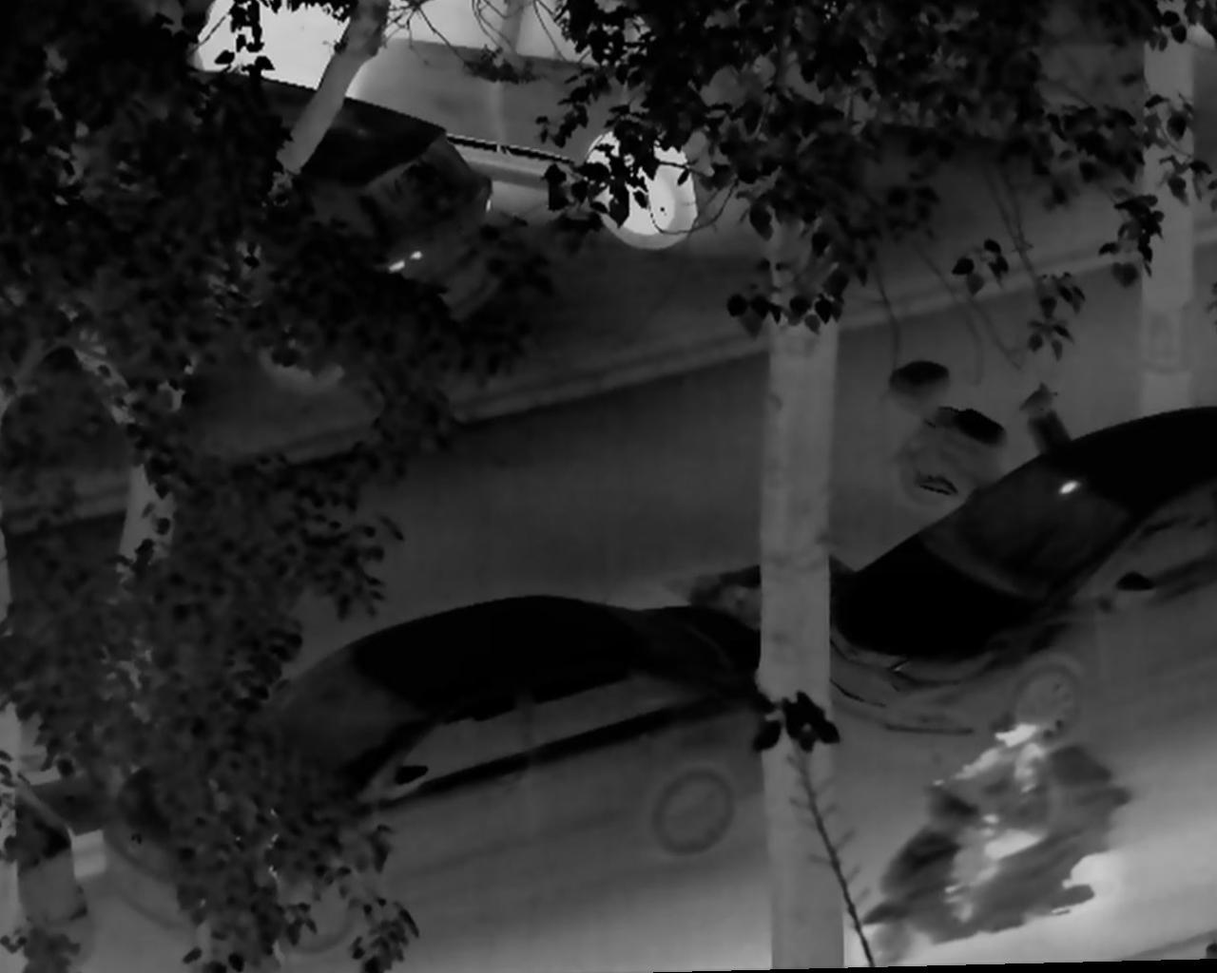person: (922, 707, 1050, 925)
